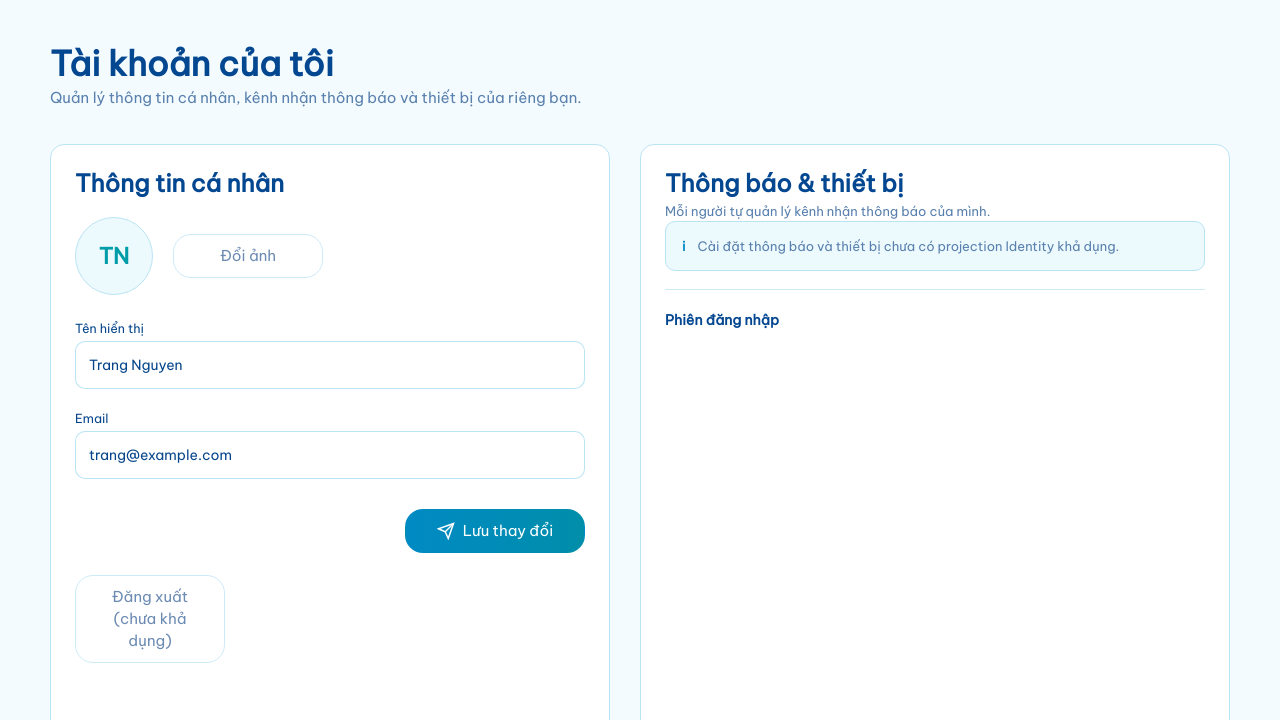
Scenario: Profile Gateway interactions › handles rejected revoke without removing sessions or retrying the mutation
Expected: the field labelled "Tên hiển thị" is shown, left=89, top=341, right=571, bottom=389
Click the heading "Phiên đăng nhập" at coordinates (722, 320), box left=665, top=311, right=779, bottom=329
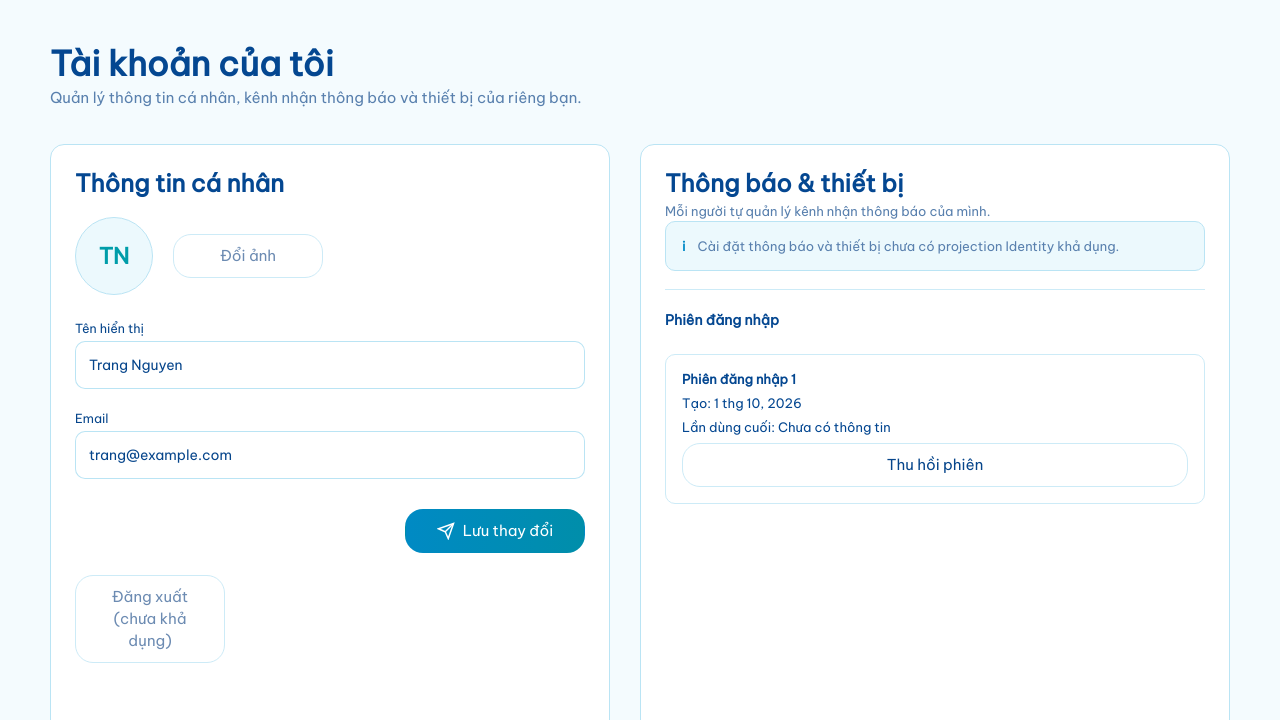
Click the button "Thu hồi phiên" at coordinates (935, 465), box left=682, top=443, right=1188, bottom=487
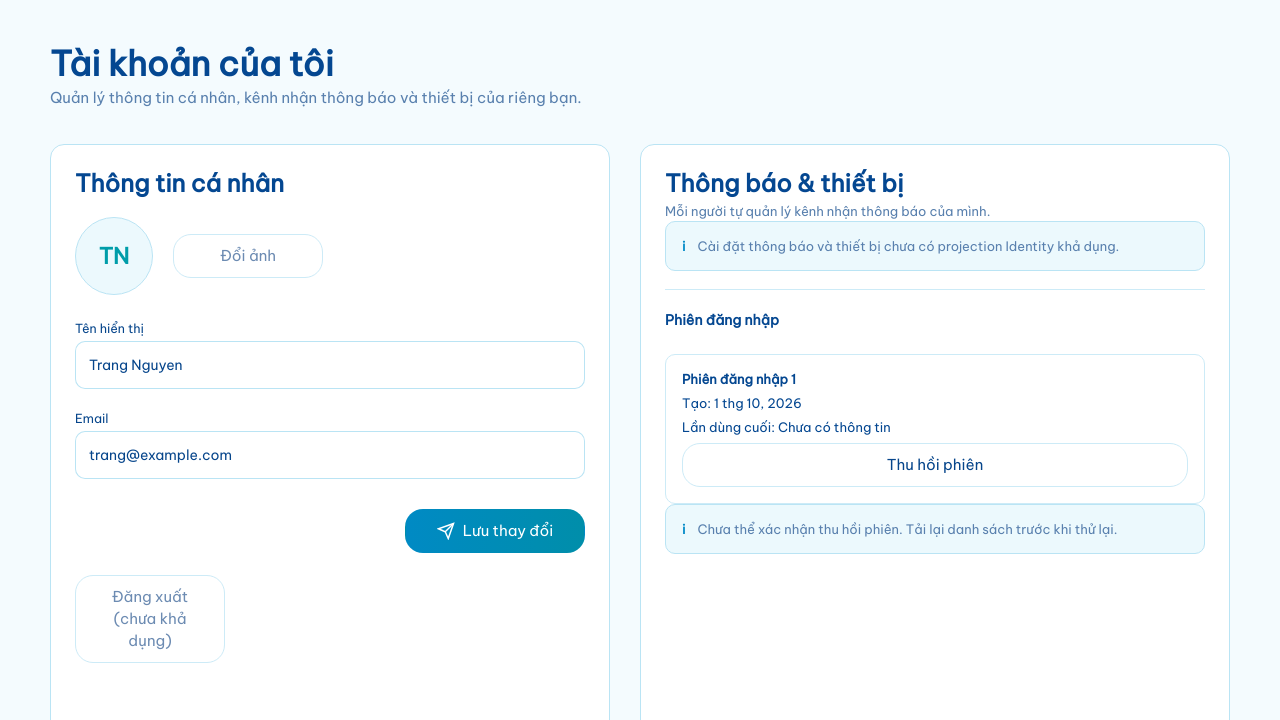
Expected: the text "Phiên đăng nhập 1" is shown, left=682, top=371, right=796, bottom=387
Expected: the text "Chưa thể xác nhận thu hồi phiên" is shown, left=697, top=521, right=1117, bottom=537
